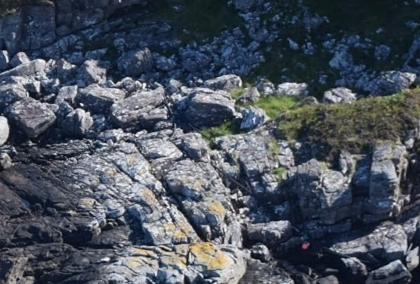tube: (159, 88, 189, 128), (209, 163, 250, 192), (326, 246, 372, 265), (190, 124, 222, 147)
white_in_green: (283, 225, 330, 264)
